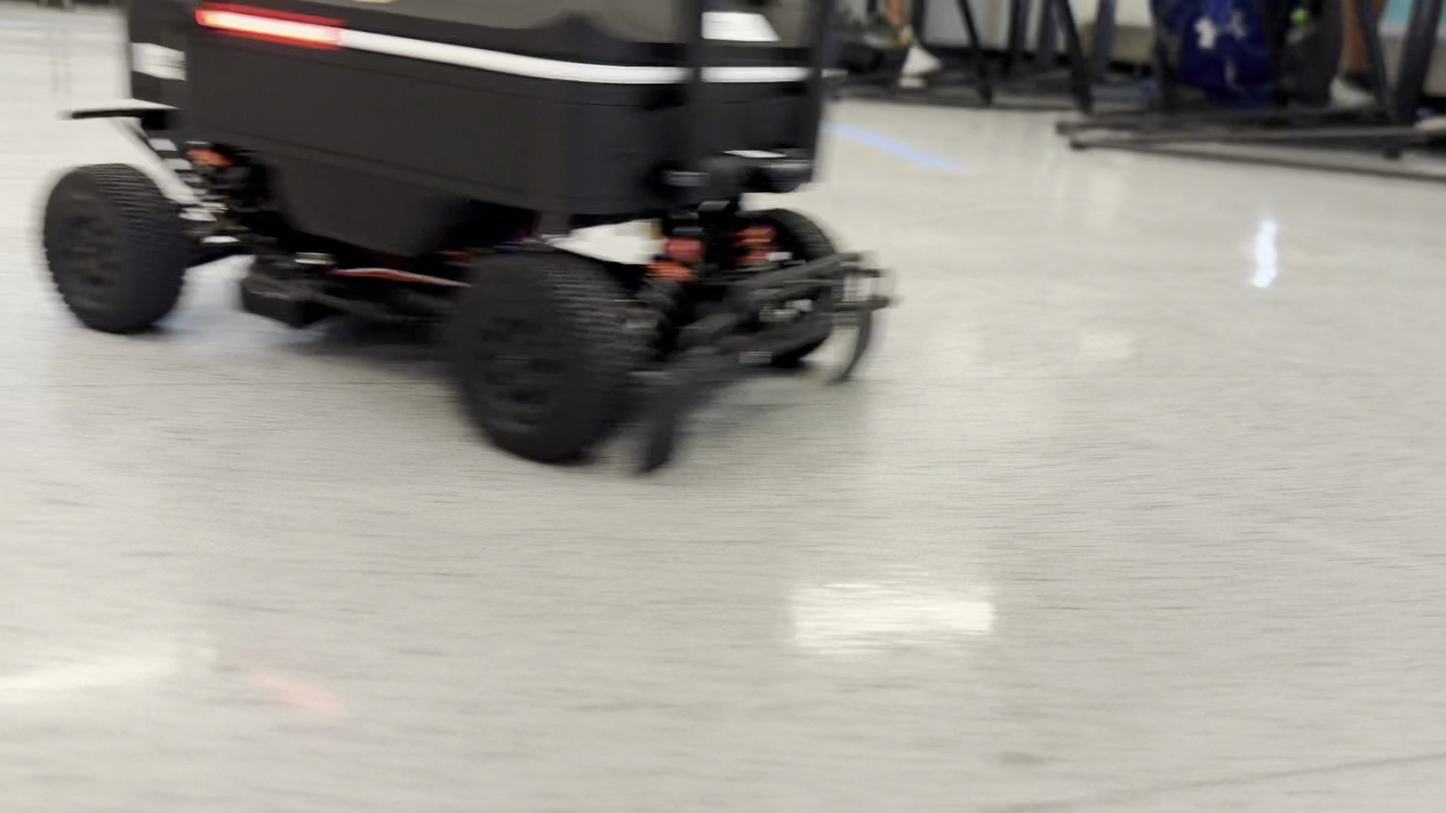racecar: (28, 0, 894, 479)
